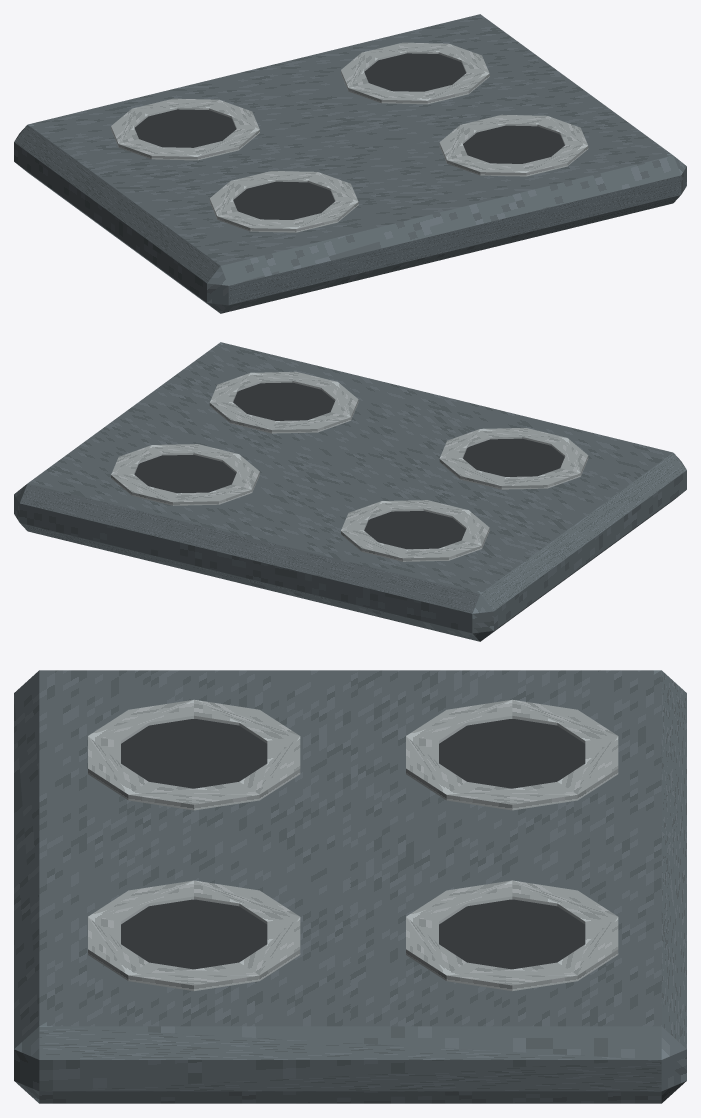
The model's file is oven_stovetop.glb.
3 renders of one model, top to bottom at view 1: azimuth 30°, elevation 25°; view 2: azimuth 150°, elevation 25°; view 3: azimuth 270°, elevation 25°, orthographic. The views are drawn at different scales.
Visible parts, largest first — view 1: block_enameled stove panel, block_removed burner inset (×4), block_exposed circular recess (×4); view 2: block_enameled stove panel, block_removed burner inset (×4), block_exposed circular recess (×4); view 3: block_enameled stove panel, block_removed burner inset (×4), block_exposed circular recess (×4).
Part boxes in pixels (<box>): block_enameled stove panel: <box>14,14,686,313</box>; block_removed burner inset (×4): <box>111,42,588,232</box>; block_exposed circular recess (×4): <box>134,53,564,219</box>; block_enameled stove panel: <box>14,342,686,641</box>; block_removed burner inset (×4): <box>111,371,588,561</box>; block_exposed circular recess (×4): <box>134,382,564,549</box>; block_enameled stove panel: <box>14,670,686,1103</box>; block_removed burner inset (×4): <box>88,699,618,991</box>; block_exposed circular recess (×4): <box>121,719,585,969</box>.
Bounding box in the file's own units: 0.6 × 0.0616 × 0.4521.
Materials: 1 (1 with a texture image).
